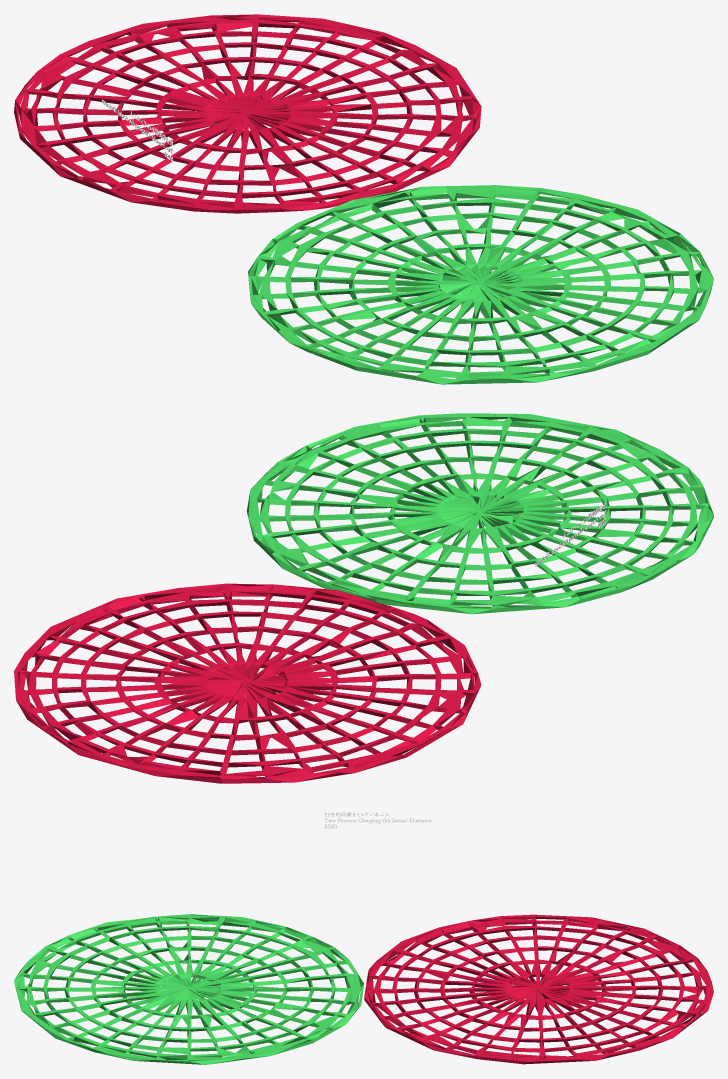
File: SocialDistance.gltf
The picture shows the model from 3 angles, top to bottom: view 1: azimuth 30°, elevation 25°; view 2: azimuth 150°, elevation 25°; view 3: azimuth 270°, elevation 25°; orthographic projection. The views are drawn at different scales.
Visible parts, largest first — view 1: Sphere, Sphere.001; view 2: Sphere.001, Sphere; view 3: Sphere, Sphere.001, Curve.038.
Part boxes in pixels (bbox=[...]): Sphere: bbox=[248, 185, 713, 384]; Sphere.001: bbox=[14, 14, 481, 213]; Sphere.001: bbox=[14, 583, 481, 783]; Sphere: bbox=[246, 413, 713, 614]; Sphere: bbox=[14, 914, 363, 1064]; Sphere.001: bbox=[364, 914, 713, 1064]; Curve.038: bbox=[324, 812, 431, 828].
Size of what is drawn, in the model's own units: 2.1 by 0.6322 by 4.03.
